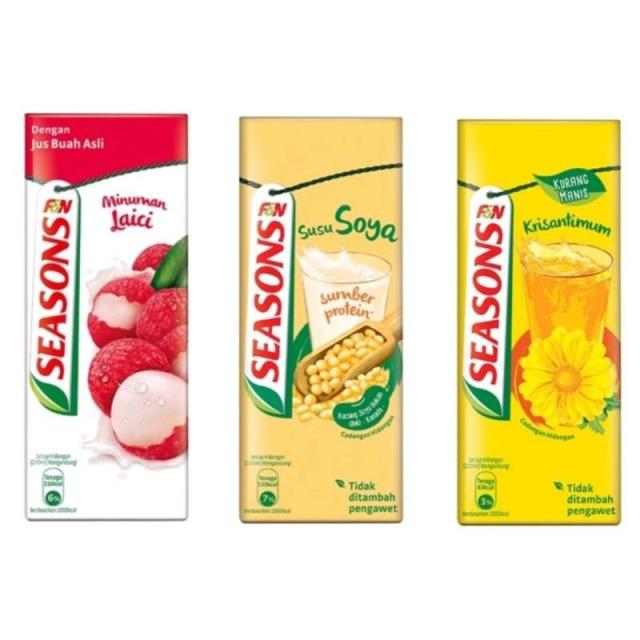drink carton: (235, 110, 410, 526), (450, 109, 626, 522), (21, 106, 189, 521)
